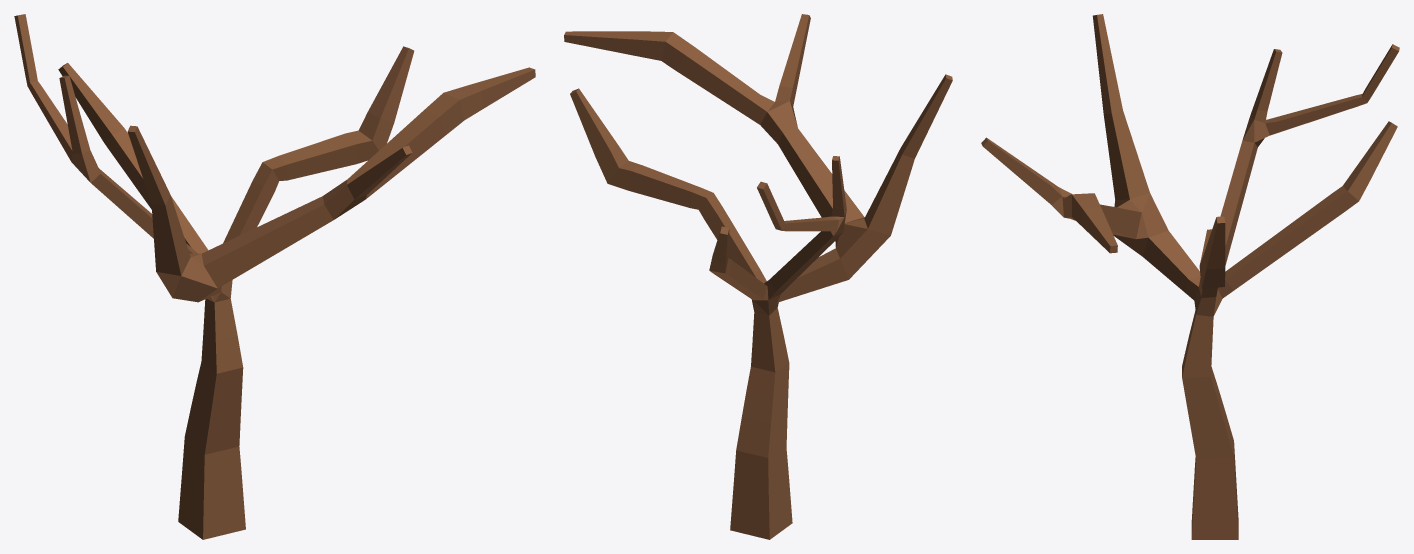
File: tree05.fbx
3 renders of one model, left to right at view 1: azimuth 30°, elevation 25°; view 2: azimuth 150°, elevation 25°; view 3: azimuth 270°, elevation 25°, orthographic. The views are drawn at different scales.
Visible parts, largest first — view 1: Cube.004; view 2: Cube.004; view 3: Cube.004.
Boxes of the visible parts, x1=… form: Cube.004: x1=14, y1=14, x2=535, y2=539; Cube.004: x1=564, y1=14, x2=952, y2=539; Cube.004: x1=981, y1=14, x2=1399, y2=539.
Size of the model in its own units: 238 by 263 by 221.
